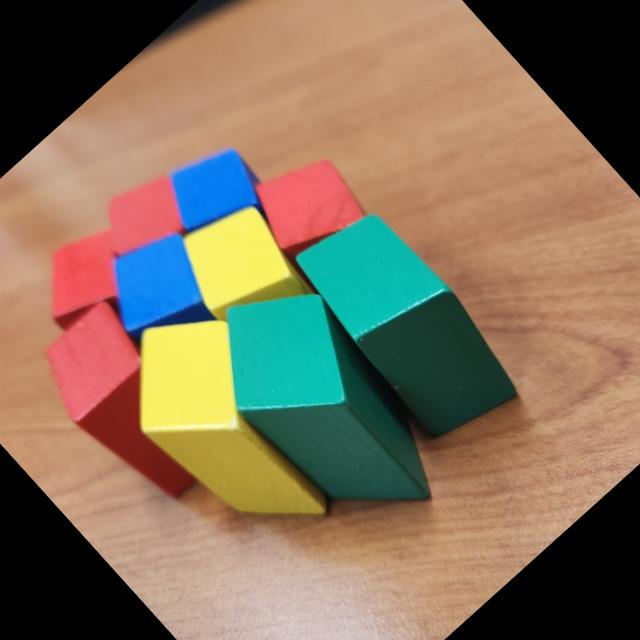blue: (80, 212, 242, 374), (148, 126, 286, 266)
green: (178, 252, 472, 555), (278, 189, 537, 458)
red: (19, 288, 242, 520), (234, 133, 380, 278), (17, 209, 156, 347), (85, 156, 206, 276)
yellow: (92, 284, 369, 570), (160, 186, 330, 358)
